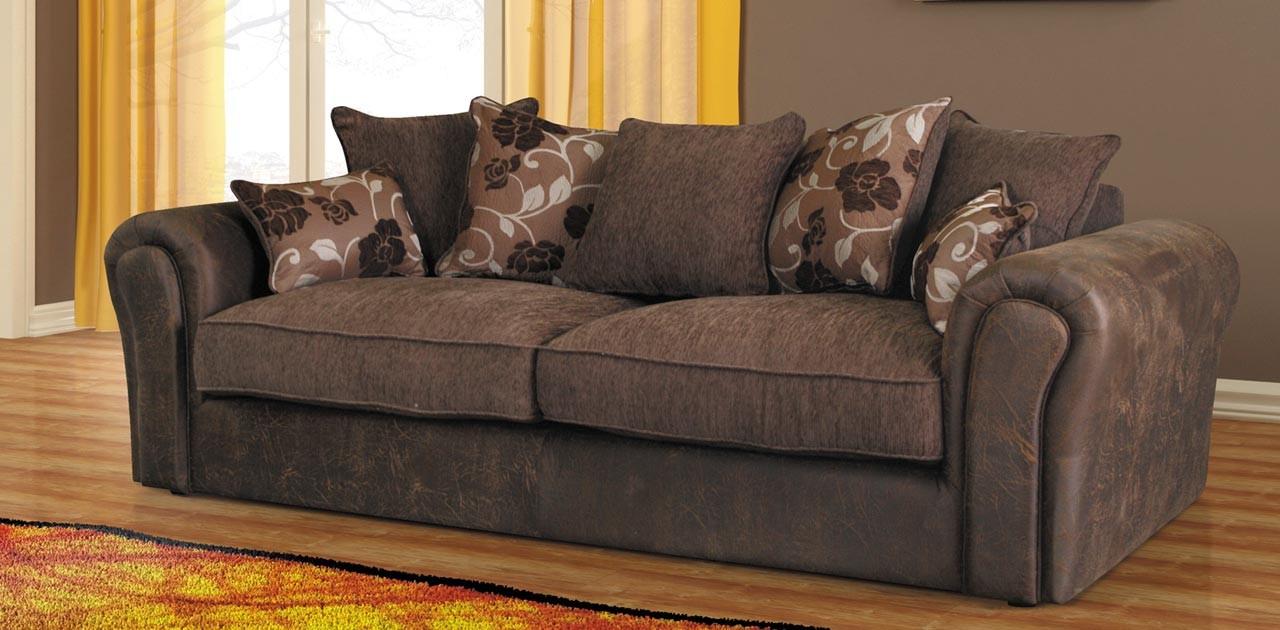chairs: (122, 85, 1238, 618)
